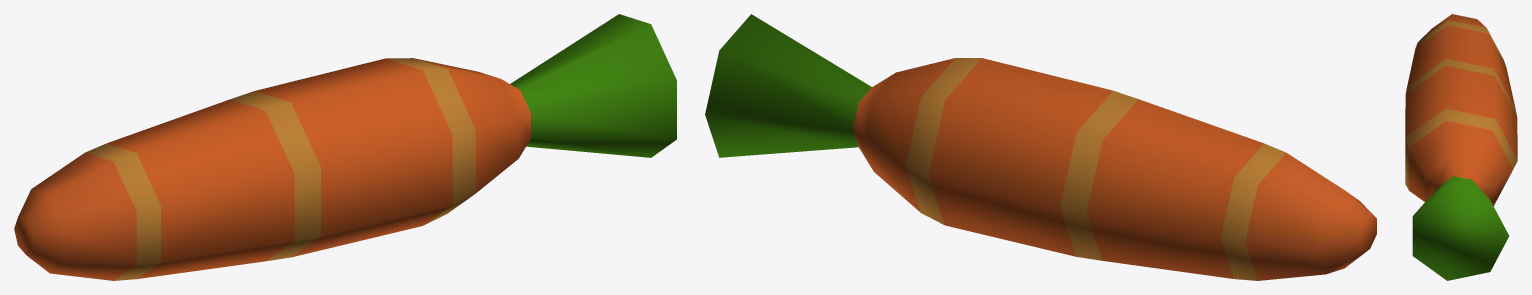
The model's file is Carrot.fbx.
The picture shows the model from 3 angles, left to right: view 1: azimuth 30°, elevation 25°; view 2: azimuth 150°, elevation 25°; view 3: azimuth 270°, elevation 25°; orthographic projection. The views are drawn at different scales.
Parts seen in each view (by area): view 1: Cylinder; view 2: Cylinder; view 3: Cylinder.
Boxes of the visible parts, x1,y1,x2,y2 form: Cylinder: [14, 14, 676, 280]; Cylinder: [705, 14, 1376, 280]; Cylinder: [1405, 14, 1517, 280].
Size of the model in its own units: 80.18 by 19.17 by 18.69.
